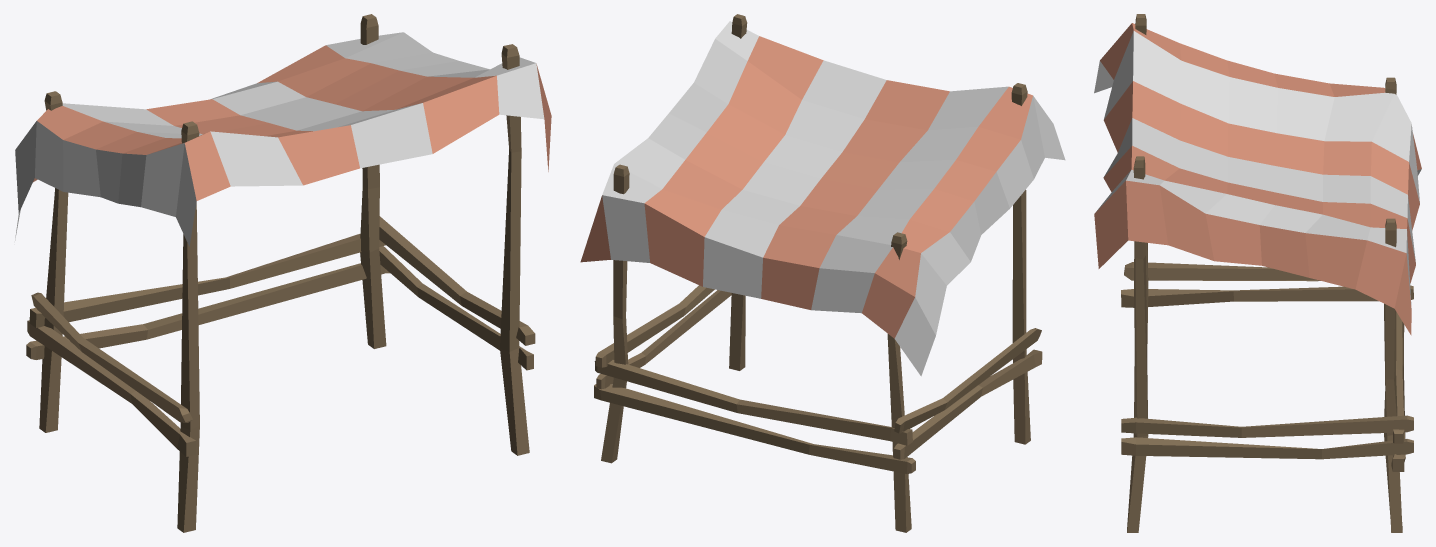
Rendered from proptent.glb.
The picture shows the model from 3 angles, left to right: view 1: azimuth 30°, elevation 25°; view 2: azimuth 150°, elevation 25°; view 3: azimuth 270°, elevation 25°; orthographic projection. The views are drawn at different scales.
Parts seen in each view (by area): view 1: TwP_prop_Tent_01; view 2: TwP_prop_Tent_01; view 3: TwP_prop_Tent_01.
Boxes of the visible parts, <box> form: TwP_prop_Tent_01: <box>15,14,551,532</box>; TwP_prop_Tent_01: <box>580,14,1065,532</box>; TwP_prop_Tent_01: <box>1094,14,1421,532</box>.
Size of the model in its own units: 2.73 by 2.69 by 2.16.
1 material, 1 textured.
